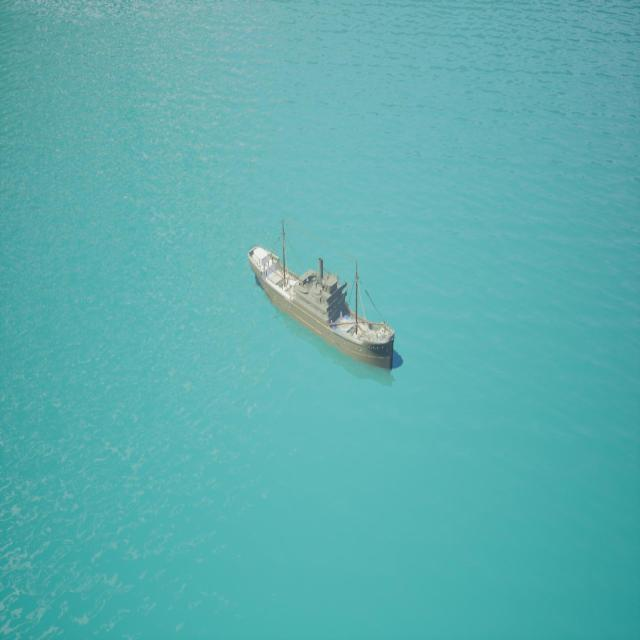fishing ship: (249, 243, 397, 374)
